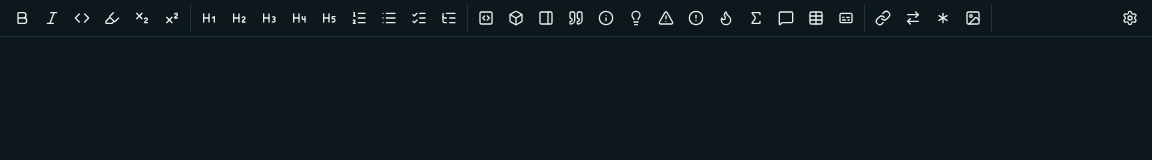
Test: EditorToolbar › settings gear in toolbar › the gear reflects the panel state via aria-expanded and the active affordance
Note: Open: expanded + active styling.
Click the button named "editor settings": (1130, 18) [1116,4,1144,32]
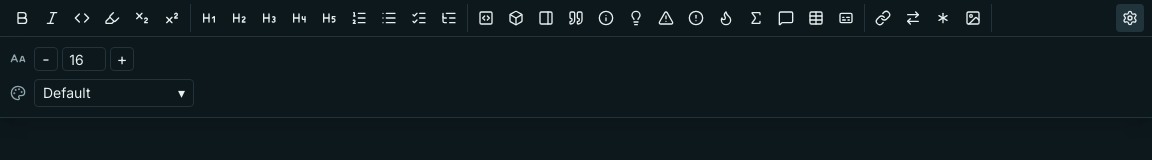
Expected: the button named "editor settings" is expanded
Note: Closed again: reverts.
Click the button named "editor settings": (1130, 18) [1116,4,1144,32]
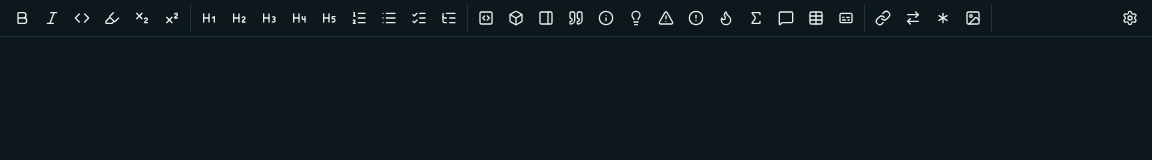
Expected: the button named "editor settings" is collapsed, [1116,4,1144,32]
